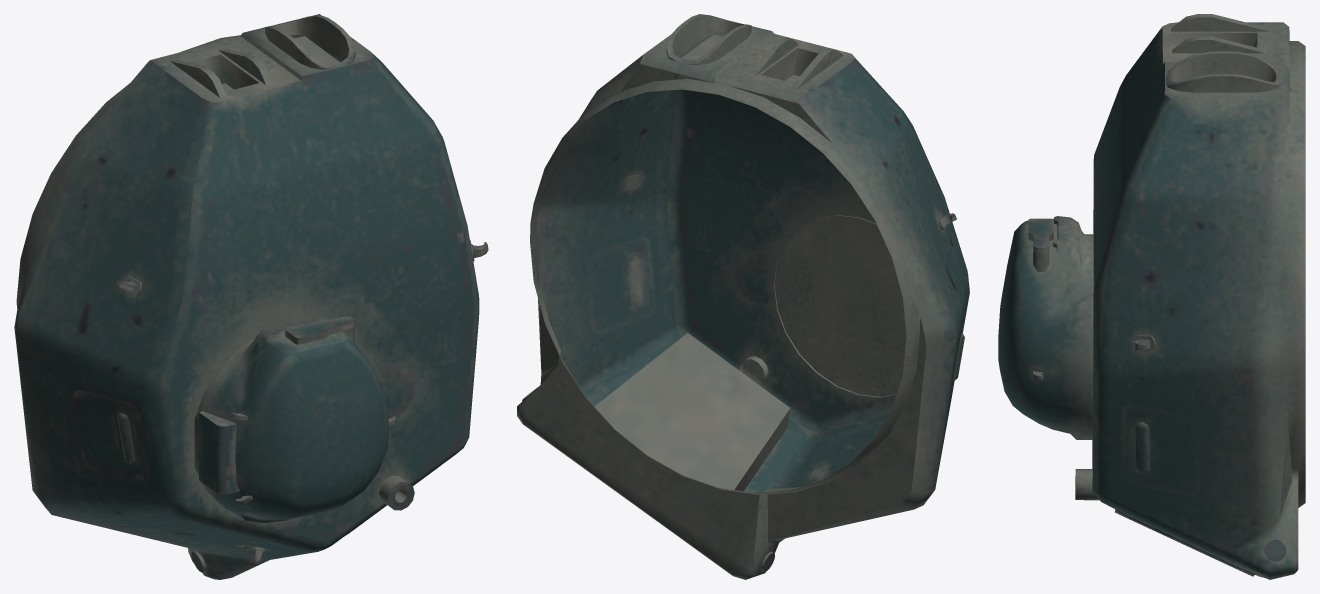
File: Turret_01.glb
3 views of the same model, side by side, from view 1: azimuth 30°, elevation 25°; view 2: azimuth 150°, elevation 25°; view 3: azimuth 270°, elevation 25° (orthographic). The views are drawn at different scales.
Visible parts, largest first — view 1: set_0_group_0; view 2: set_0_group_0; view 3: set_0_group_0.
Boxes of the visible parts, x1,y1,x2,y2 form: set_0_group_0: (14,14,488,579); set_0_group_0: (517,14,969,579); set_0_group_0: (998,14,1305,579).
Size of the model in its own units: 1.48 by 1.73 by 0.8835.
1 material, 1 textured.
